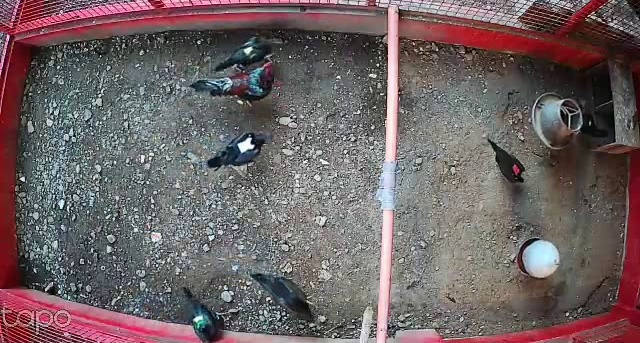Chicken: (249, 267, 321, 320), (214, 34, 291, 77), (180, 284, 231, 343), (208, 129, 272, 172), (486, 137, 530, 186), (571, 106, 611, 145)
Rooster: (189, 61, 284, 115)
Saddle_Color_Red: (511, 164, 521, 174)
Saddle_Color_White: (238, 137, 254, 154)
Saddle_Color_Yellow: (242, 40, 257, 60)
Saddle_Color_YellowGreen: (191, 316, 208, 330)
